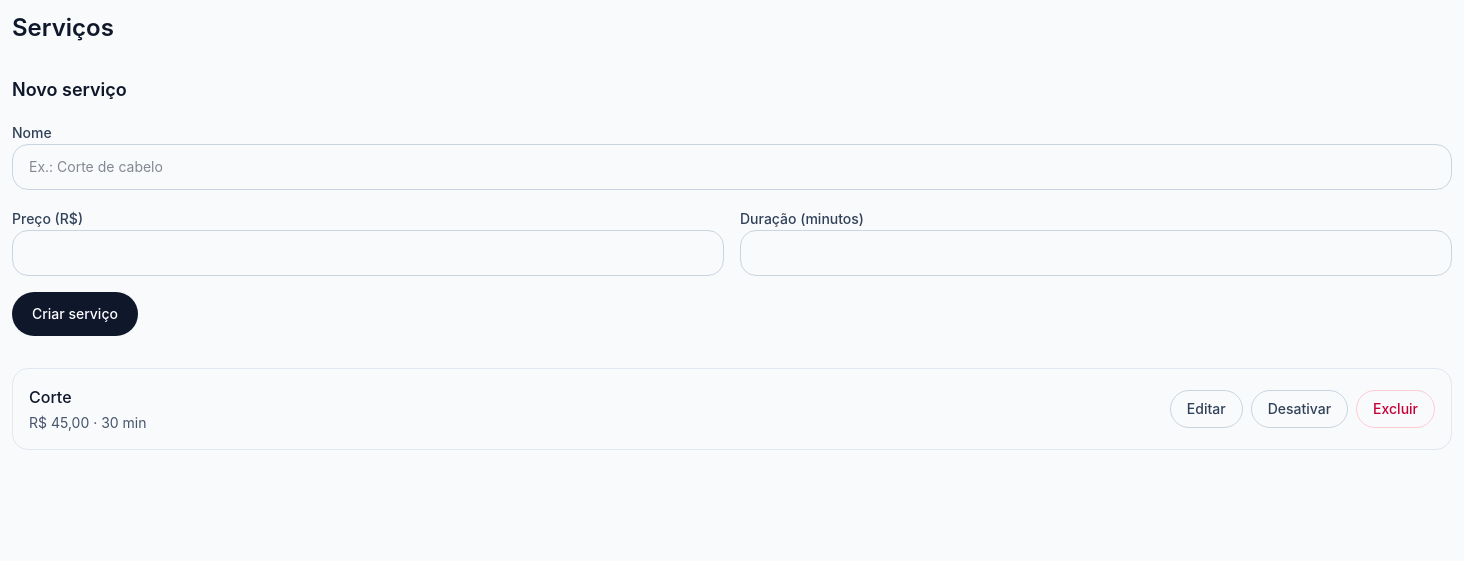
Test case: services manager (mounted, injected fetch deps) › creates a service: POSTs the parsed payload and the new service appears in the list
The width and height of the screenshot is (1464, 561).
In the field labelled "Nome": (732,167) left=12, top=144, right=1452, bottom=190, type "Barba"
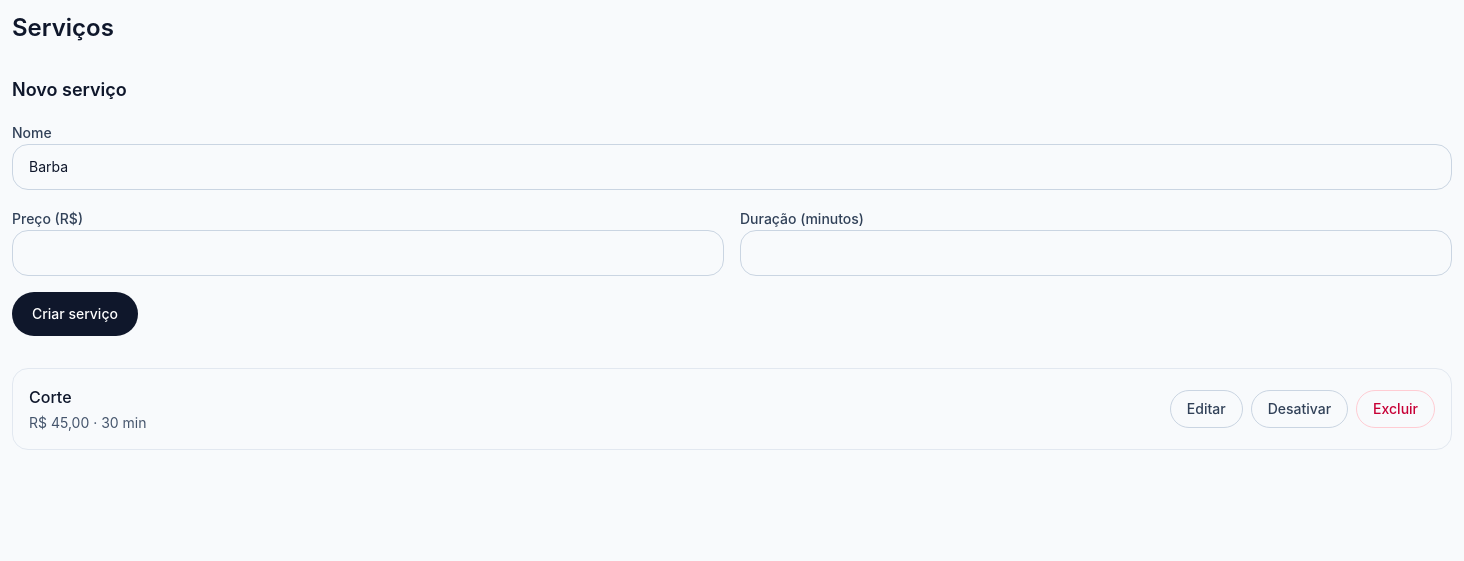
In the number field labelled "Preço (R$)": (368,253) left=12, top=230, right=724, bottom=276, type "35"
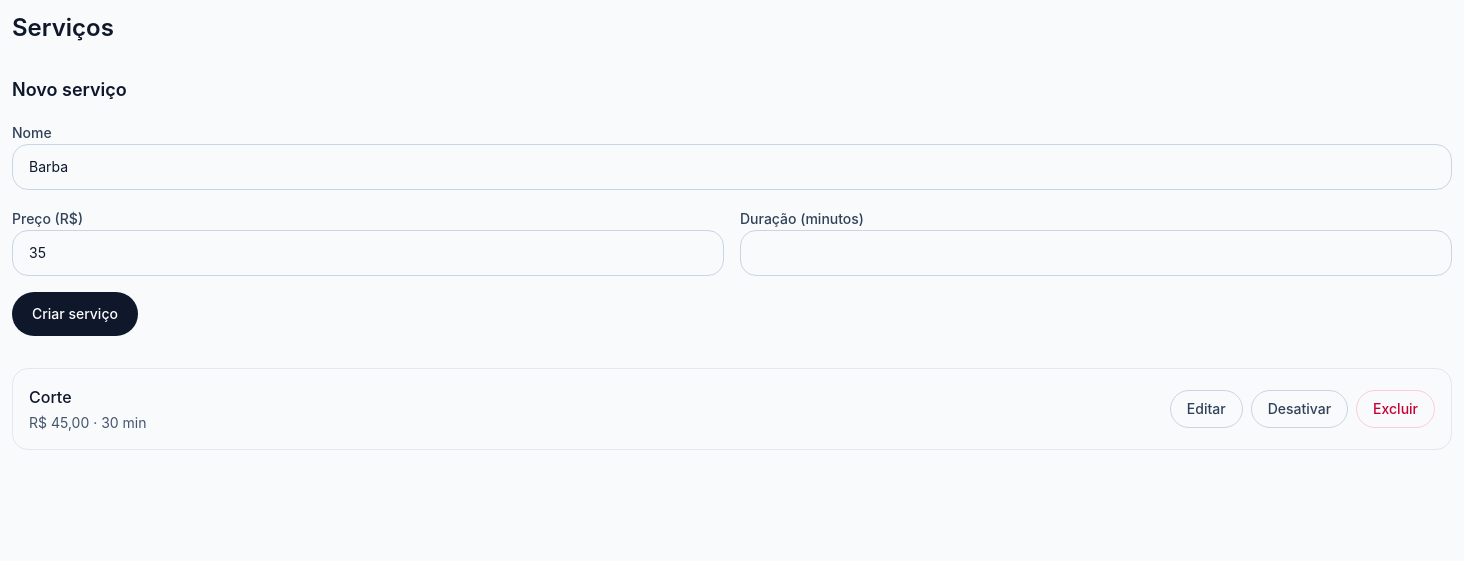
In the number field labelled "Duração (minutos)": (1096,253) left=740, top=230, right=1452, bottom=276, type "20"
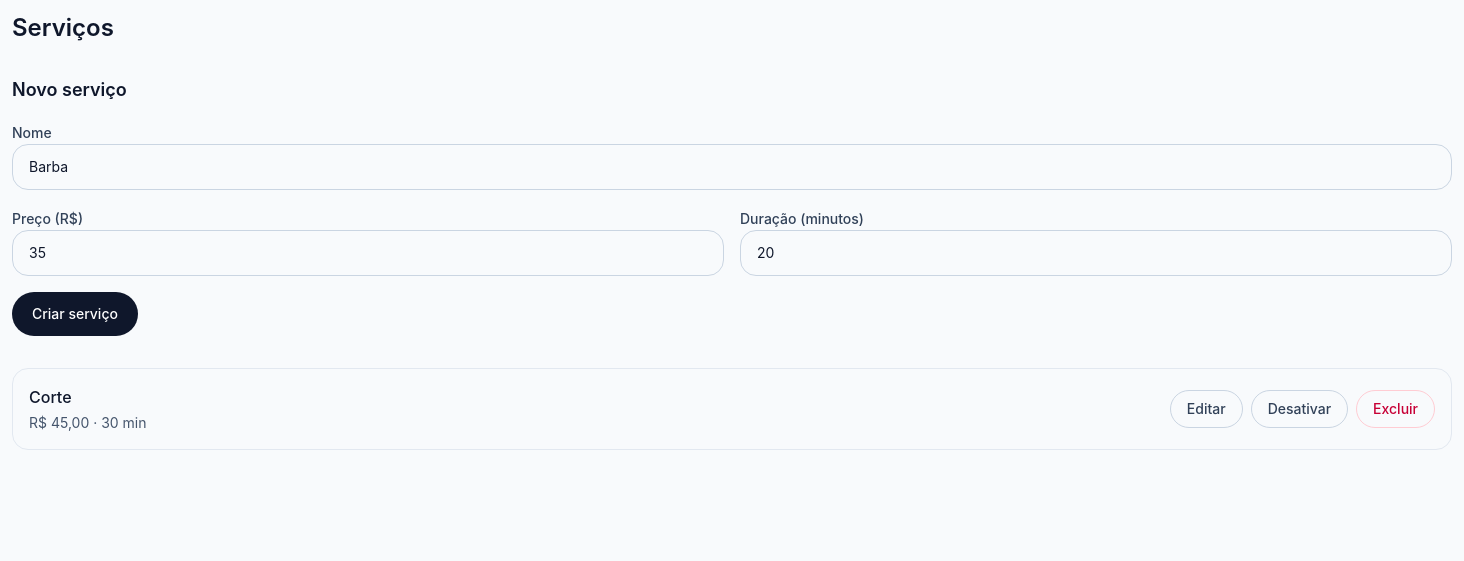
Click the button "Criar serviço": (75,314) left=12, top=292, right=138, bottom=336
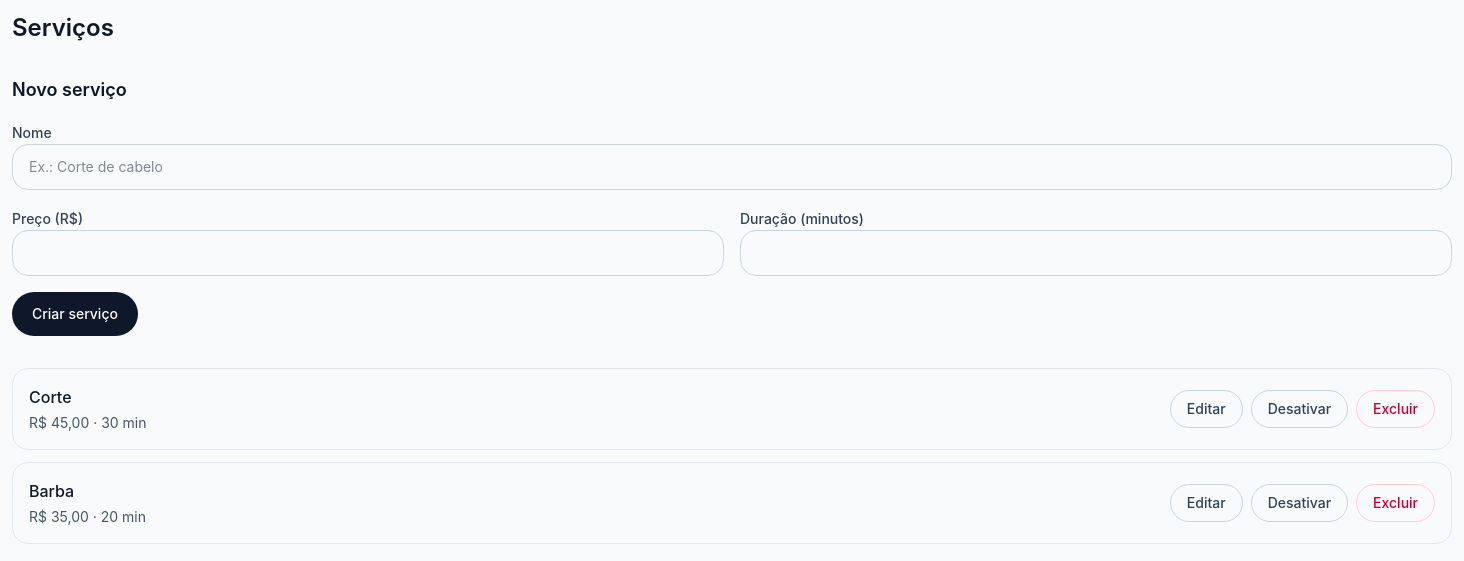
Expected: the text "Corte" is shown, left=29, top=387, right=72, bottom=407
Now the text "Barba" is shown, box left=29, top=481, right=74, bottom=501
